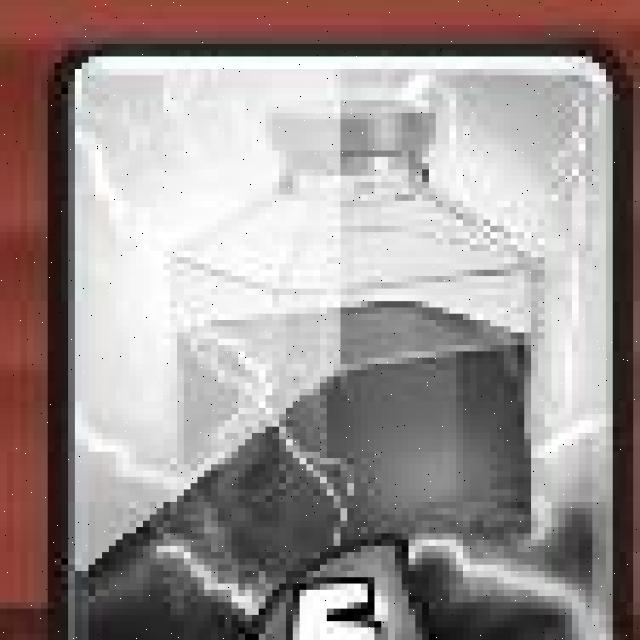Lightning: (48, 41, 629, 640)
